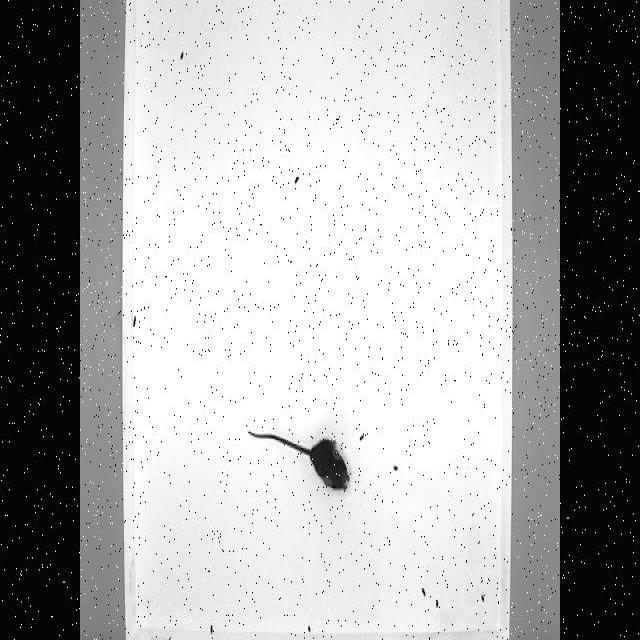rat: (246, 425, 352, 494)
